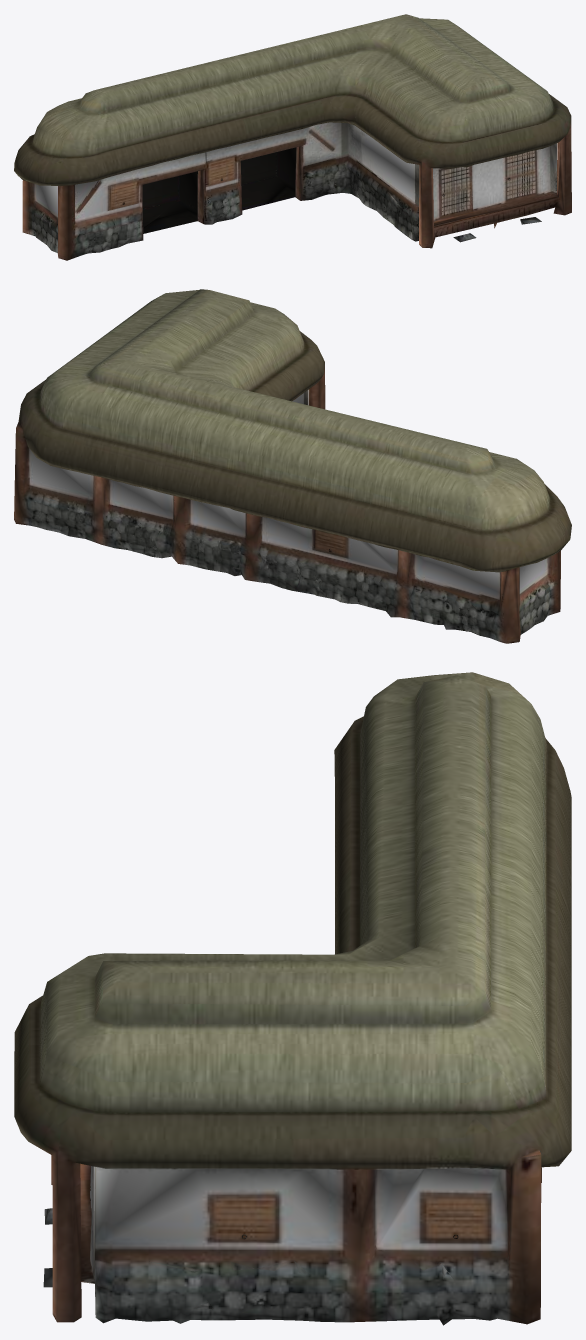
Rendered from house-L.glb.
The picture shows the model from 3 angles, top to bottom: view 1: azimuth 30°, elevation 25°; view 2: azimuth 150°, elevation 25°; view 3: azimuth 270°, elevation 25°; orthographic projection. The views are drawn at different scales.
Visible parts, largest first — view 1: house_L_lod0; view 2: house_L_lod0; view 3: house_L_lod0.
Boxes of the visible parts, x1,y1,x2,y2 form: house_L_lod0: (14, 14, 571, 260); house_L_lod0: (14, 289, 571, 643); house_L_lod0: (14, 672, 571, 1325).
Size of the model in its own units: 14.12 by 4.14 by 7.38.
Materials: 1 (1 with a texture image).
